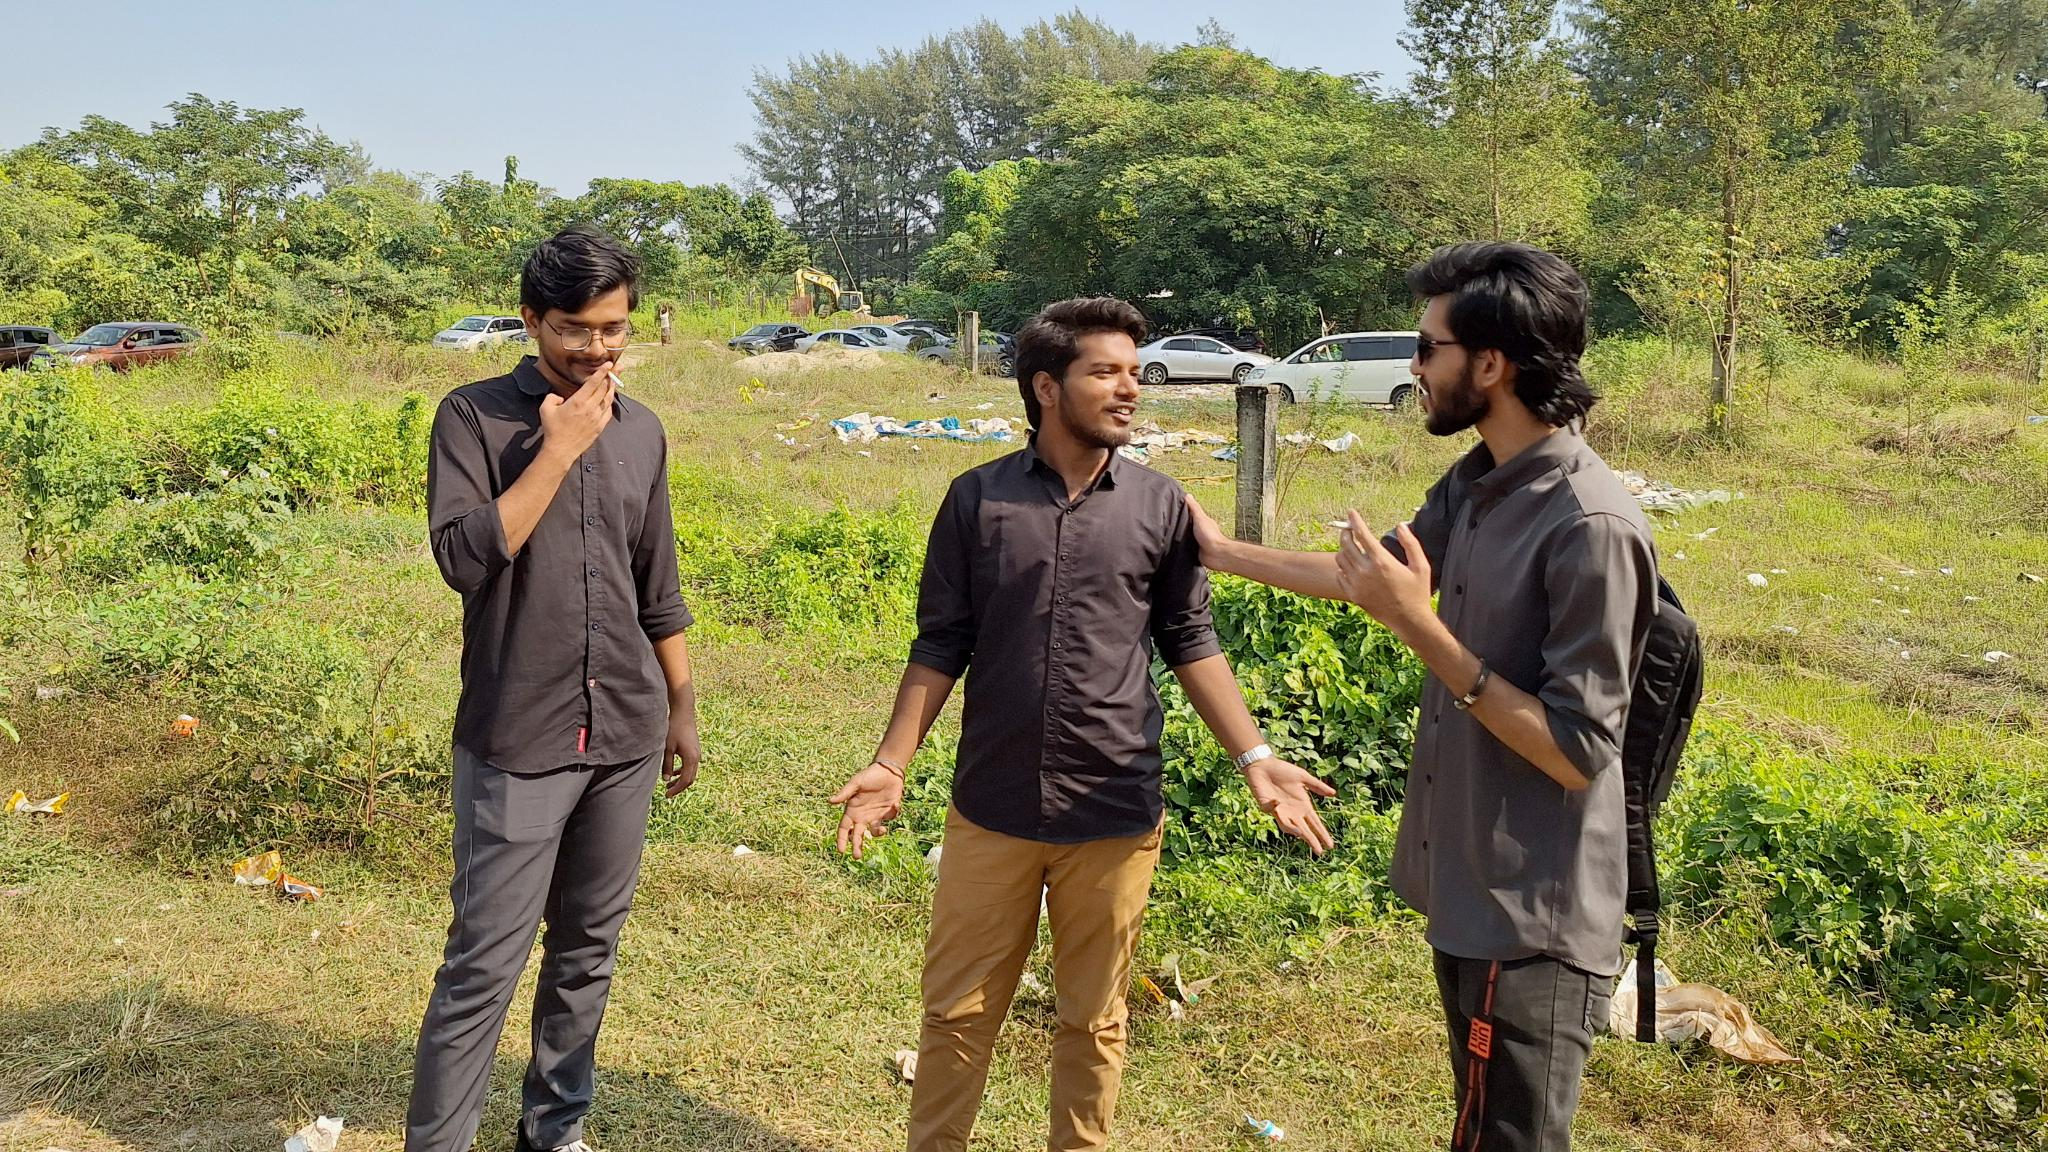cigarette: (605, 369, 627, 390), (1325, 519, 1355, 532)
nonSmoker: (827, 295, 1338, 1152)
smoker: (1182, 241, 1703, 1152), (404, 226, 702, 1152)
